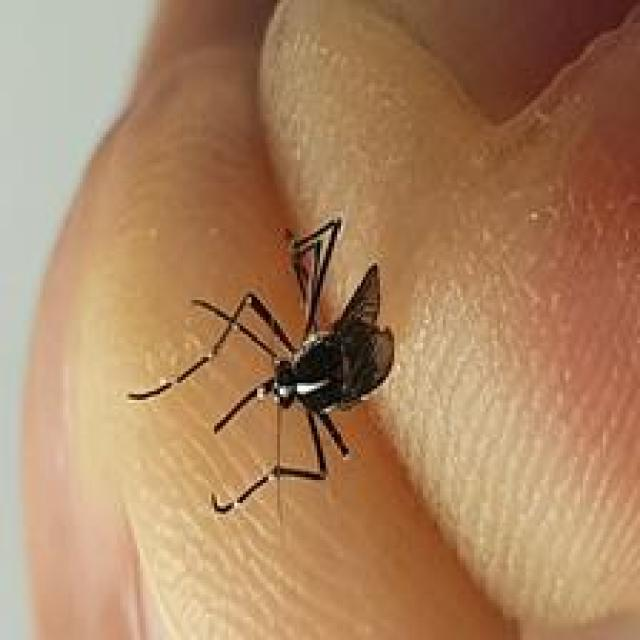Aedes albopictus: (126, 216, 397, 521)
